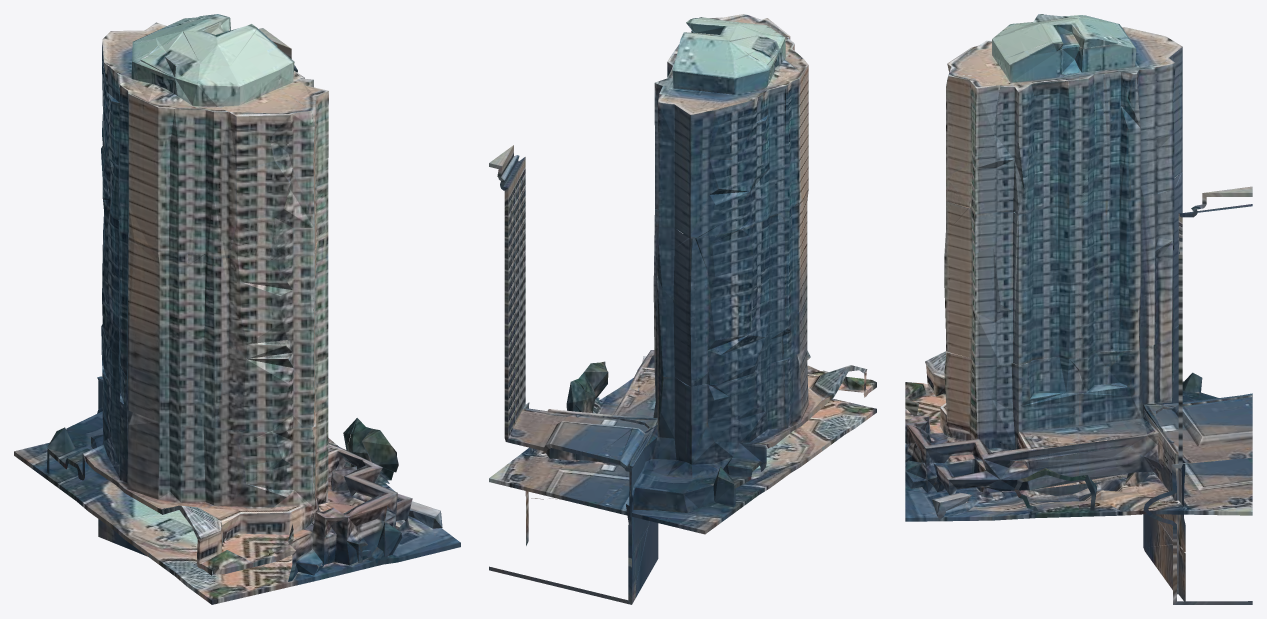
The model's file is chunk_-6_-5.glb.
3 renders of one model, left to right at view 1: azimuth 30°, elevation 25°; view 2: azimuth 150°, elevation 25°; view 3: azimuth 270°, elevation 25°, orthographic. The views are drawn at different scales.
Visible parts, largest first — view 1: hero-chunk; view 2: hero-chunk; view 3: hero-chunk.
Boxes of the visible parts, x1,y1,x2,y2 form: hero-chunk: (14,14,460,604); hero-chunk: (489,14,876,604); hero-chunk: (905,14,1252,604).
Bounding box in the file's own units: 56.35 × 124 × 76.33.
4 materials, 4 textured.
